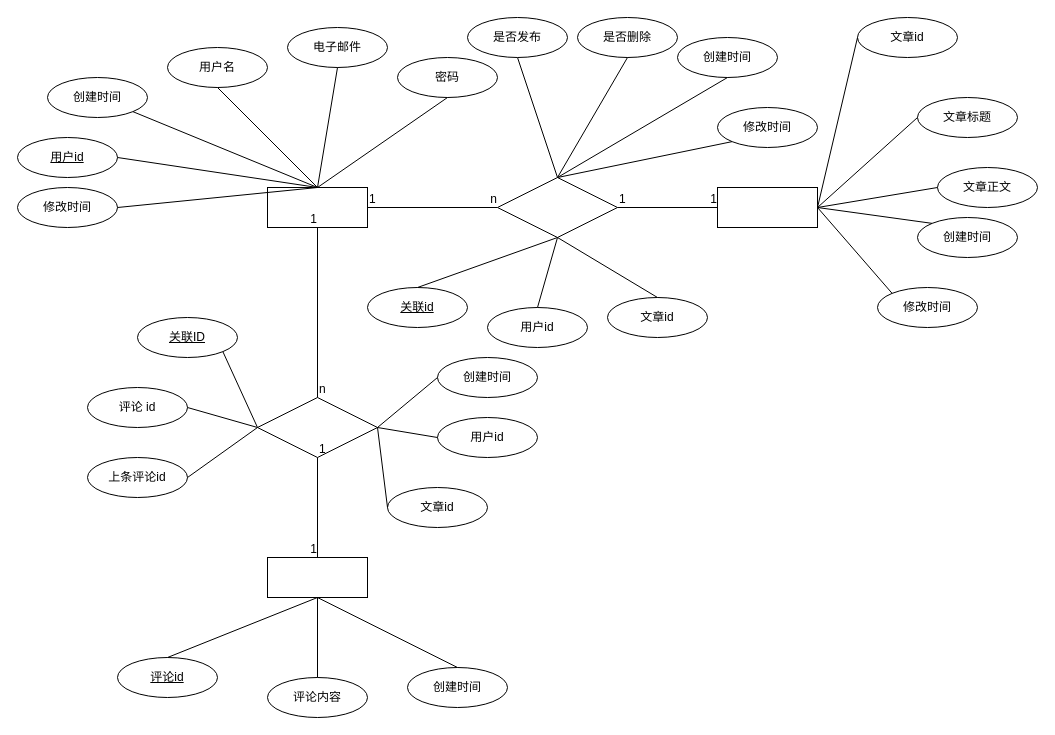
Image size: 1055x735. Some labels were removed from this diagram. The shapes that lost their labels are listed below. From the top down, each one's box as (x1, y1, x2, y2) in pixels, then its label:
(266, 186, 368, 228): 用户
(496, 176, 618, 238): 操作文章
(716, 186, 818, 228): 文章
(256, 396, 378, 458): 操作评论
(266, 556, 368, 598): 评论
